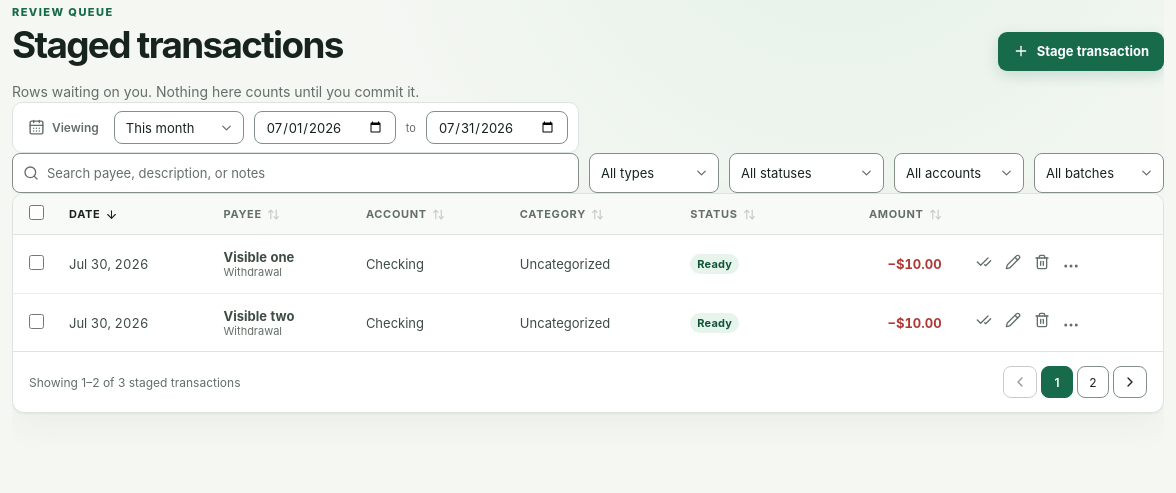
Test: staged transaction selection › shows the mixed state while only part of the page is selected
Expected: the text "Visible one" is shown, [224,249,294,265]
Expected: the checkbox named "Select all staged transactions on this page" is not checked, [28,205,44,220]
Click the checkbox named "Select Visible one".
click(36, 263)  # box [28,255,44,270]
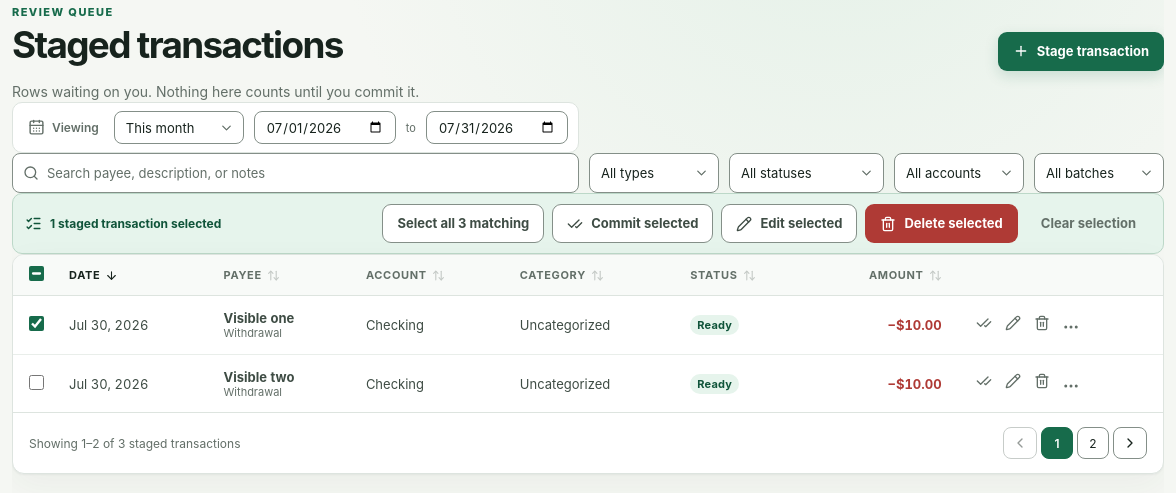
Expected: the checkbox named "Select all staged transactions on this page" is not checked, [28,266,44,281]
Now the text "1 staged transaction selected" is shown, box [50,216,221,231]
Click the checkbox named "Select Visible two".
click(36, 382)  # box [28,374,44,390]
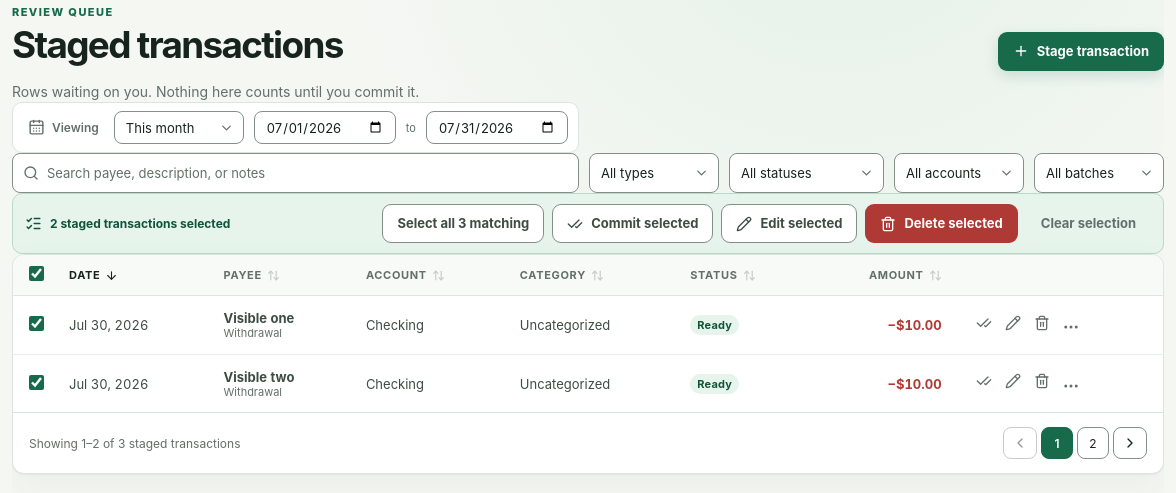
Now the checkbox named "Select all staged transactions on this page" is checked, box [28,266,44,281]
